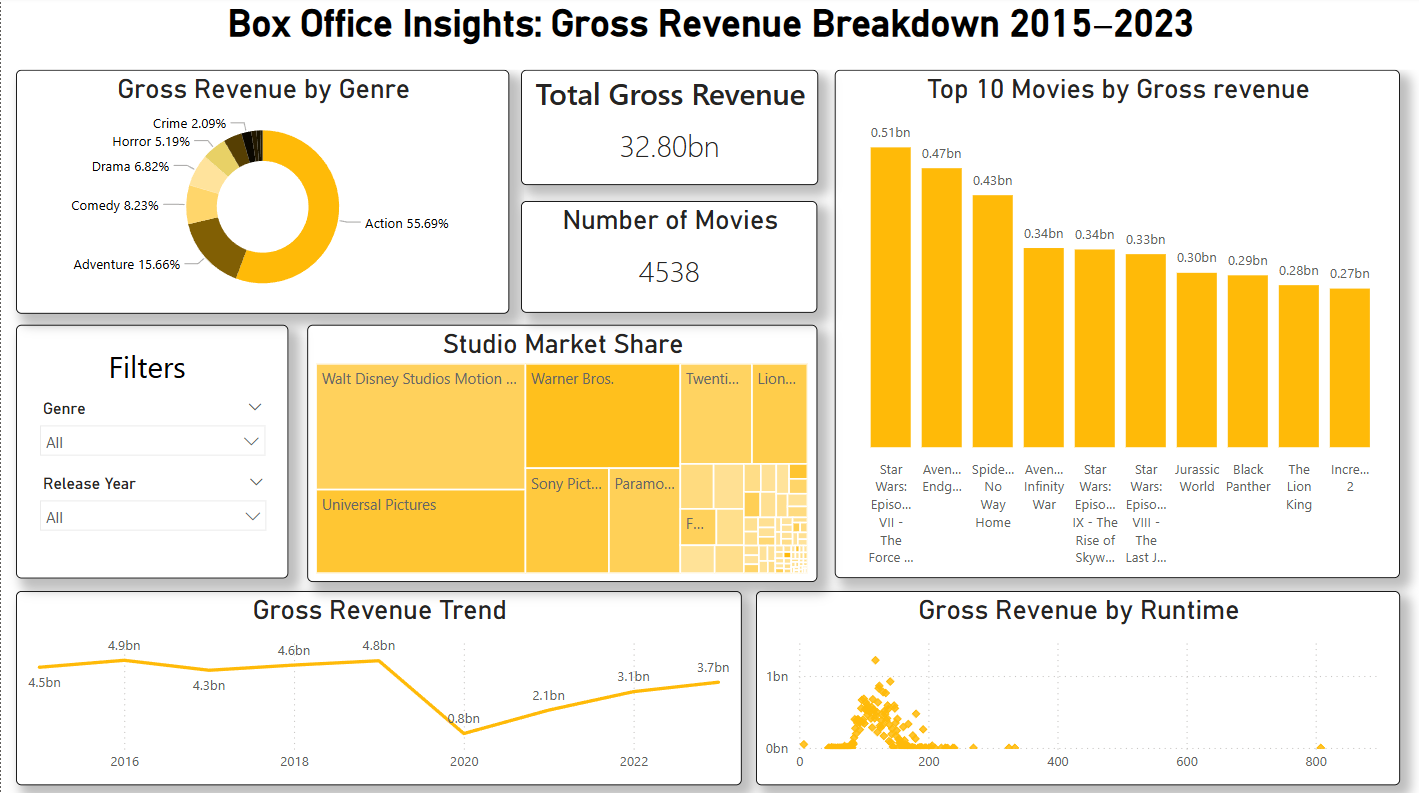

The page's visual inventory and layout, read from the dashboard file:
{"tool":"powerbi","page":{"name":"Box Office Insights: Gross Revenue Breakdown 2015–2023","canvas":[1280,720],"ordinal":0},"visuals":[{"type":"donutChart","title":"Gross Revenue by Genre","fields":{"Category":["movie_scraper movies.Genre_Grouped"],"Y":["Sum(movie_scraper movies.gross)"]},"box":[13.5,66,445.1,220.1],"z":0},{"type":"shape","box":[13.5,295.9,245.8,228.7],"z":0,"group":"g1"},{"type":"slicer","fields":{"Values":["movie_scraper movies.genre"]},"box":[24.7,357.4,223.3,62.7],"z":1000,"group":"g1"},{"type":"lineChart","title":"Gross Revenue Trend","fields":{"Category":["movie_scraper movies.release_year"],"Y":["Sum(movie_scraper movies.gross)"]},"box":[13.5,536.8,654.2,174.9],"z":1000},{"type":"clusteredColumnChart","title":"Top 10 Movies by Gross revenue","fields":{"Category":["movie_scraper movies.title"],"Y":["Sum(movie_scraper movies.gross)"]},"box":[752,66,509.9,458.6],"z":2000},{"type":"slicer","fields":{"Values":["movie_scraper movies.release_year"]},"box":[24.7,425.9,224.6,63.8],"z":2000,"group":"g1"},{"type":"textbox","box":[64.7,311,134.7,46.4],"z":3000,"group":"g1"},{"type":"scatterChart","title":"Gross Revenue by Runtime","fields":{"X":["movie_scraper movies.runtime_minutes"],"Y":["Sum(movie_scraper movies.gross)"]},"box":[681.1,536.8,580.8,174.9],"z":3000},{"type":"treemap","title":"Studio Market Share","fields":{"Group":["movie_scraper movies.studio"],"Values":["Sum(movie_scraper movies.gross)"]},"box":[276.4,295.9,459.8,232.3],"z":4000},{"type":"card","title":"Total Gross Revenue","fields":{"Values":["Sum(movie_scraper movies.gross)"]},"box":[468.3,66,267.8,103.9],"z":5000},{"type":"card","title":"Number of Movies","fields":{"Values":["Count(movie_scraper movies.title)"]},"box":[468.6,184.9,267.4,101.2],"z":6000},{"type":"textbox","box":[0,0,1280.3,66],"z":7000},{"type":"group","id":"g1","title":"Group 1","box":[13.5,295.9,245.8,228.7],"z":10002}]}

Visuals, with their boxes in screenshot pixels (x1, y1, x2, y2), scaled from the page's 1280x720 canvas onto the 1419x793 screenshot:
"Gross Revenue by Genre" donutChart: left=15, top=73, right=508, bottom=315
shape: left=15, top=326, right=287, bottom=578
slicer - movie_scraper movies.genre: left=27, top=394, right=275, bottom=463
"Gross Revenue Trend" lineChart: left=15, top=591, right=740, bottom=784
"Top 10 Movies by Gross revenue" clusteredColumnChart: left=834, top=73, right=1399, bottom=578
slicer - movie_scraper movies.release_year: left=27, top=469, right=276, bottom=539
textbox: left=72, top=343, right=221, bottom=394
"Gross Revenue by Runtime" scatterChart: left=755, top=591, right=1399, bottom=784
"Studio Market Share" treemap: left=306, top=326, right=816, bottom=582
"Total Gross Revenue" card: left=519, top=73, right=816, bottom=187
"Number of Movies" card: left=519, top=204, right=816, bottom=315
textbox: left=0, top=0, right=1418, bottom=73
"Group 1" group: left=15, top=326, right=287, bottom=578
